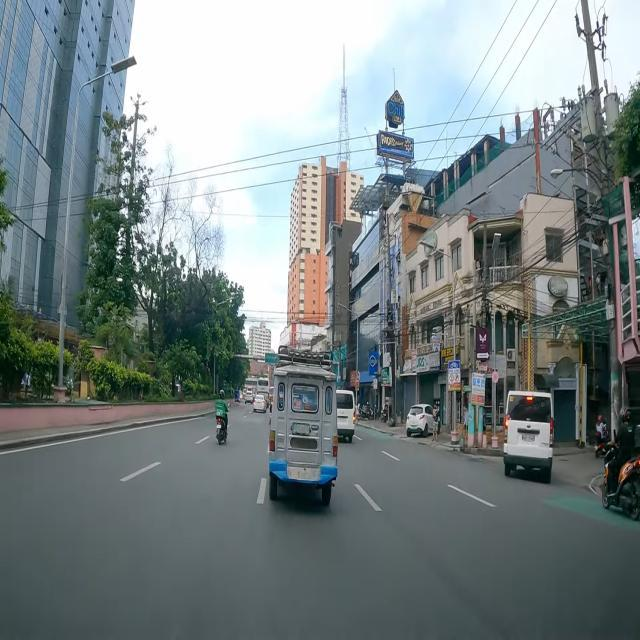bus: (258, 376, 270, 394)
car: (503, 390, 554, 482), (336, 389, 357, 442), (406, 404, 433, 436), (252, 394, 266, 414)
jeepney: (268, 348, 338, 504)
motorcycle: (601, 408, 640, 520), (214, 390, 228, 444), (594, 414, 610, 457), (383, 406, 388, 423)
